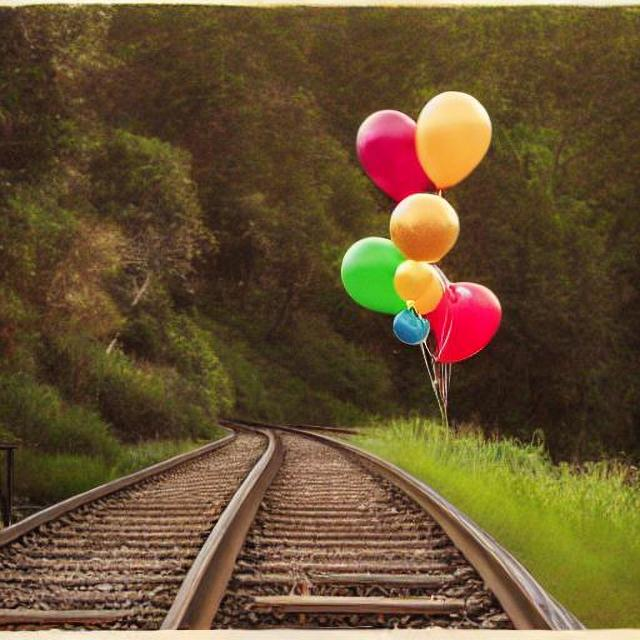balloon: (339, 89, 493, 323), (416, 276, 502, 362), (389, 256, 445, 312), (391, 298, 427, 344)
